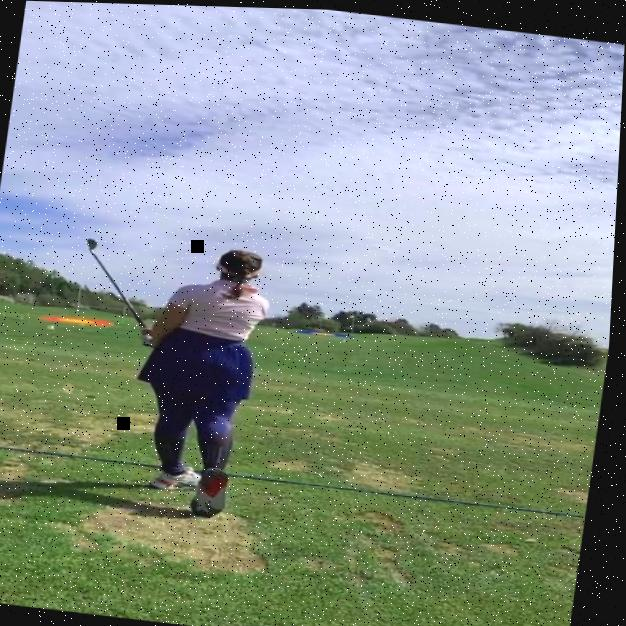ClubHead: (89, 237, 102, 249)
